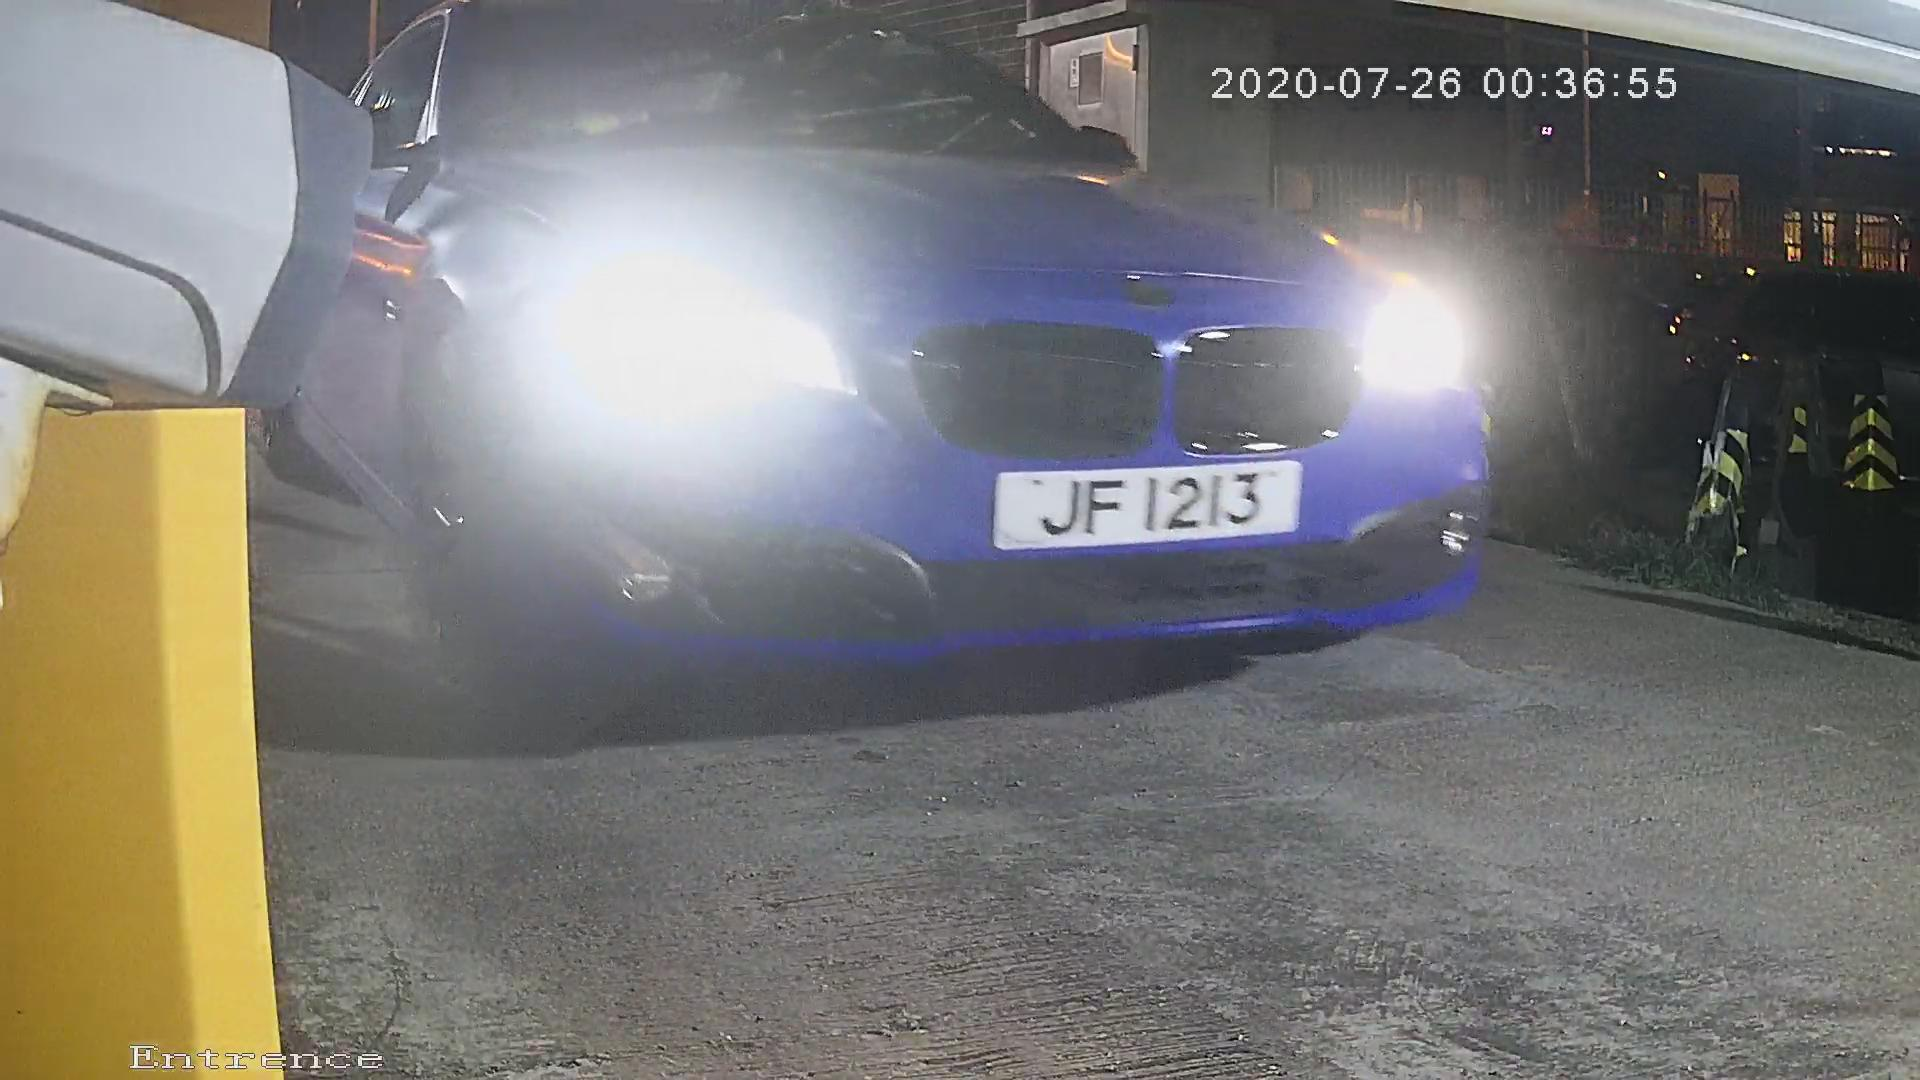License Plate: (955, 444, 1341, 560)
